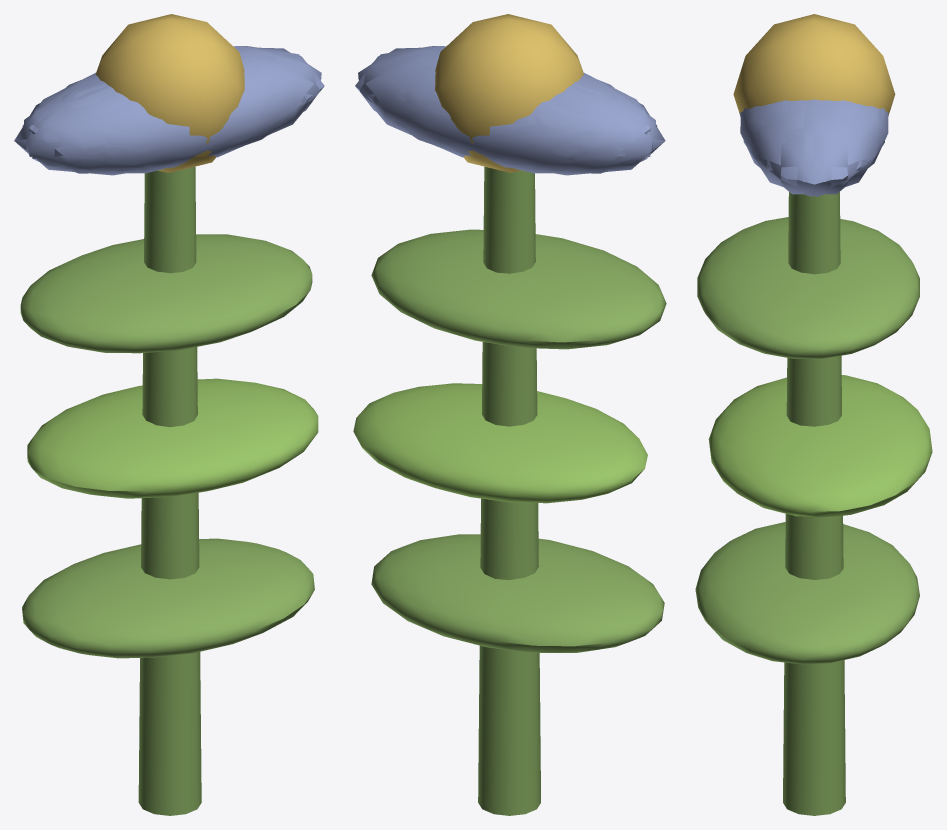
File: handroanthus-chrysotrichus.glb
3 views of the same model, side by side, from view 1: azimuth 30°, elevation 25°; view 2: azimuth 150°, elevation 25°; view 3: azimuth 270°, elevation 25° (orthographic).
Parts seen in each view (by area): view 1: leaf2, leaf0, leaf1, stem, center, petal6, petal2, petal1, petal5, petal7, petal0; view 2: leaf2, leaf1, leaf0, stem, center, petal3, petal7, petal8, petal4, petal2, petal0; view 3: leaf1, leaf2, leaf0, stem, center, petal0, petal5, petal4, petal8, petal1.
Boxes of the visible parts, x1,y1,x2,y2 form: leaf2: (20,234,312,353); leaf0: (22,538,314,658); leaf1: (27,378,318,498); stem: (138,166,201,815); center: (96,14,244,172); petal6: (32,86,230,173); petal2: (24,80,176,175); petal1: (101,65,306,171); petal5: (165,54,324,163); petal7: (14,75,115,166); petal0: (238,47,321,146); leaf2: (371,229,666,349); leaf1: (353,383,647,503); leaf0: (371,534,664,652); stem: (478,166,540,815); center: (435,14,583,172); petal3: (448,86,647,173); petal7: (502,80,655,175); petal8: (372,65,577,171); petal4: (355,54,514,163); petal2: (564,75,665,166); petal0: (358,47,441,146); leaf1: (708,375,932,517); leaf2: (697,217,919,359); leaf0: (695,522,919,664); stem: (783,192,845,815); center: (733,14,895,113); petal0: (754,99,873,194); petal5: (743,100,826,196); petal4: (802,100,885,196); petal8: (838,100,888,168); petal1: (740,100,790,168).
Bounding box in the file's own units: 0.1541 × 0.3836 × 0.1054.
